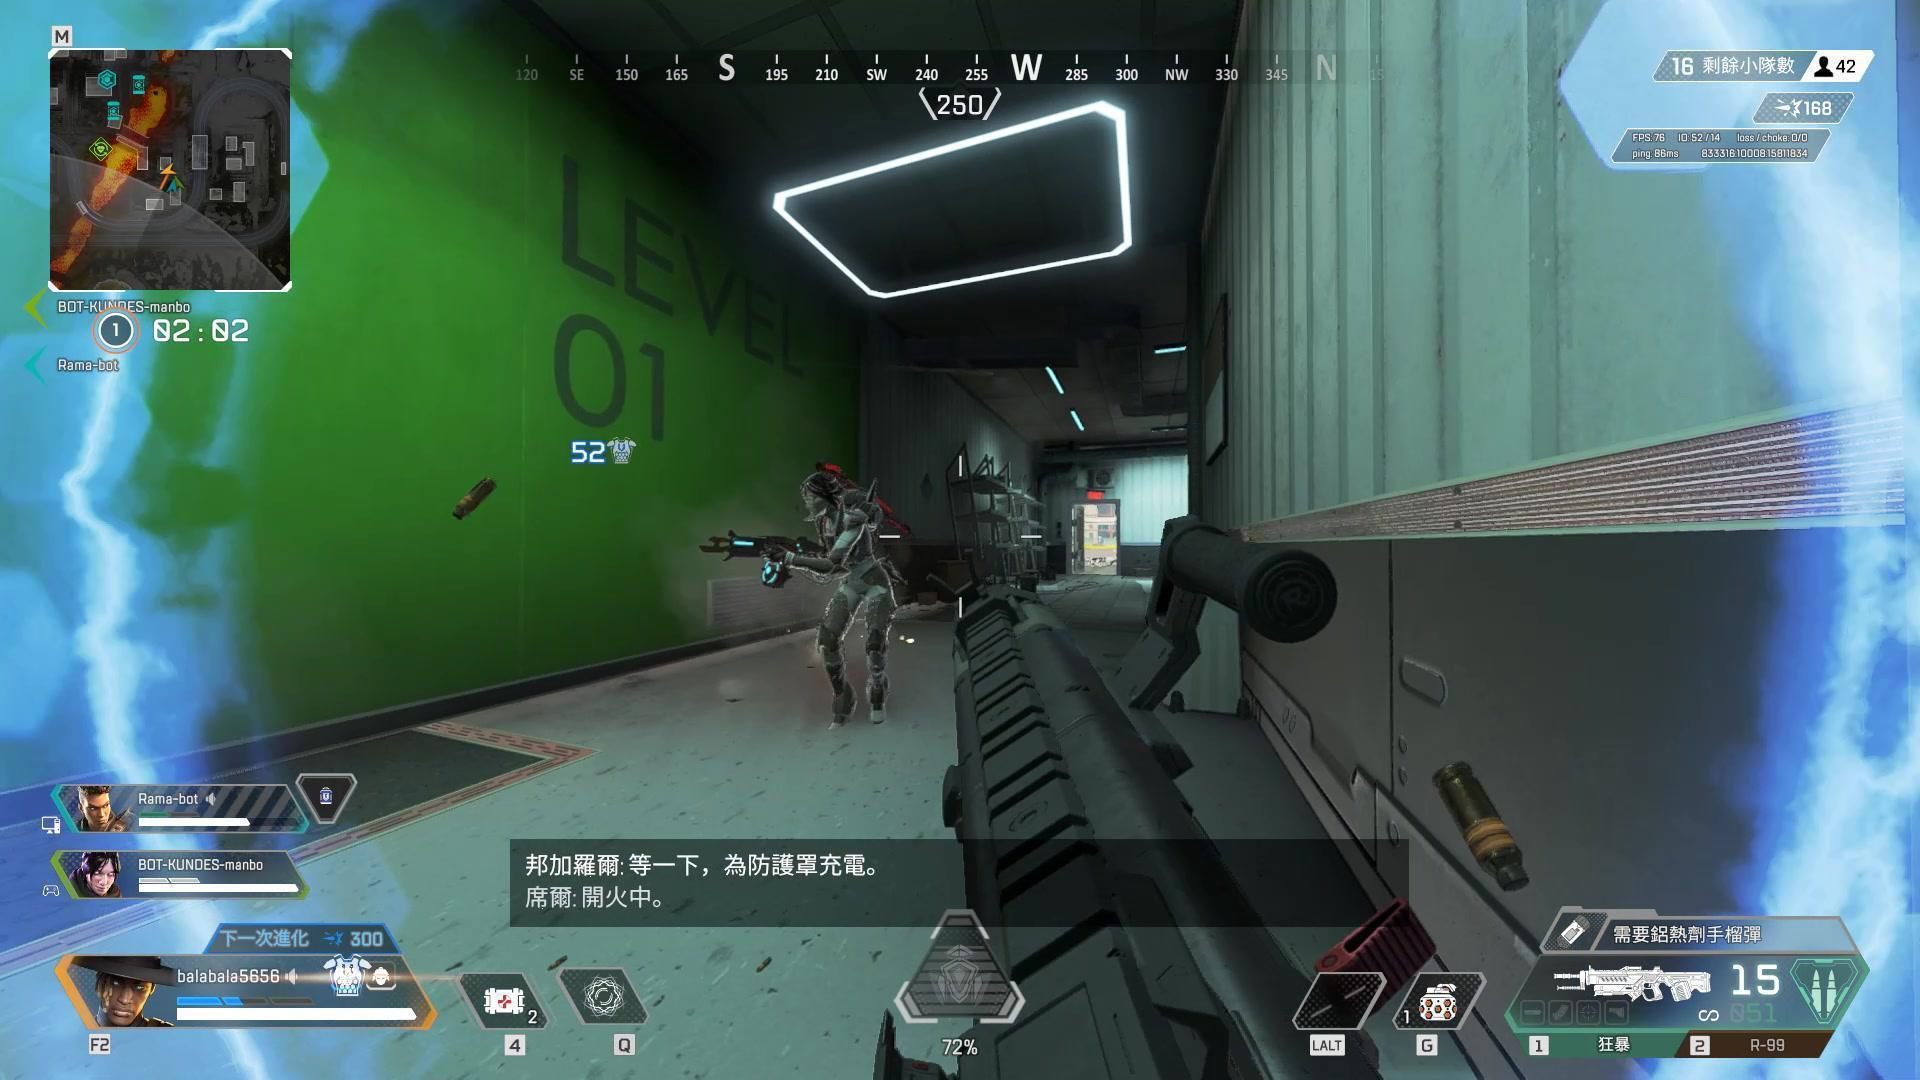avatar: (798, 469, 904, 735)
